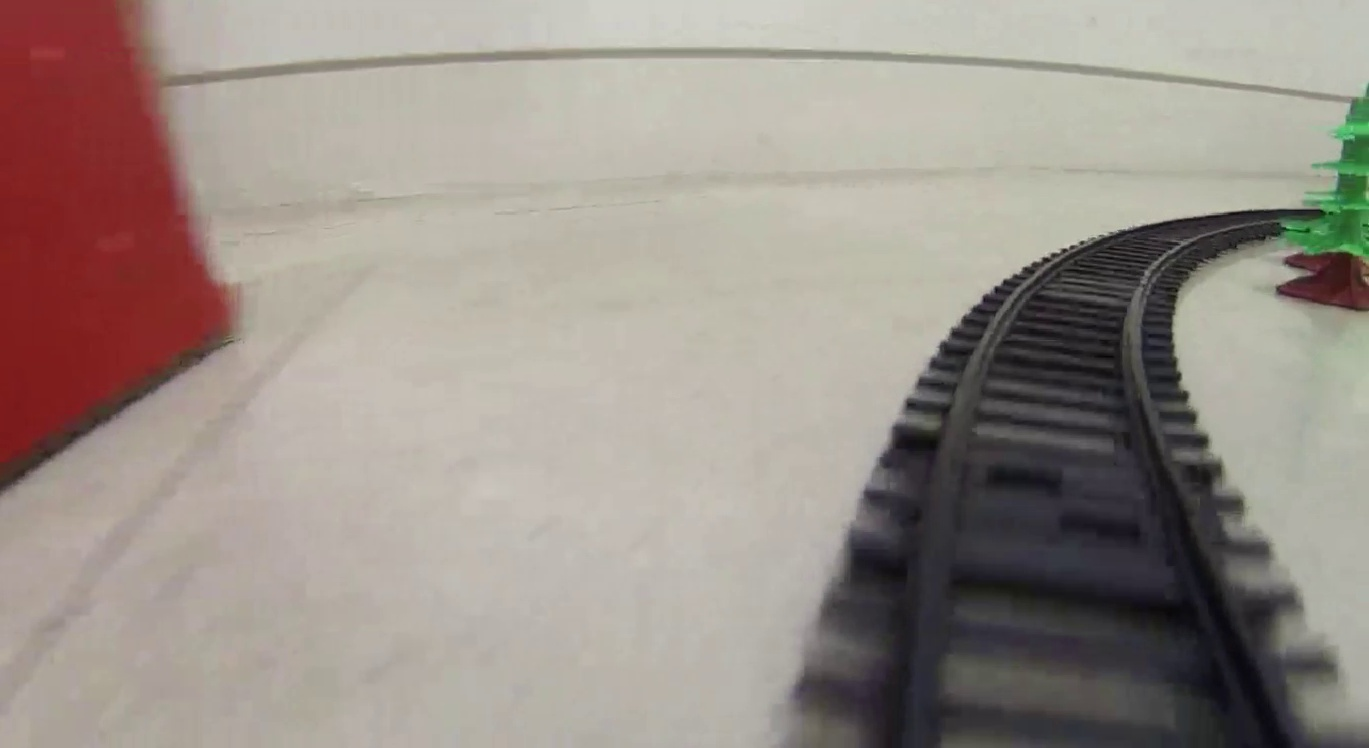tree: (1278, 88, 1369, 310)
